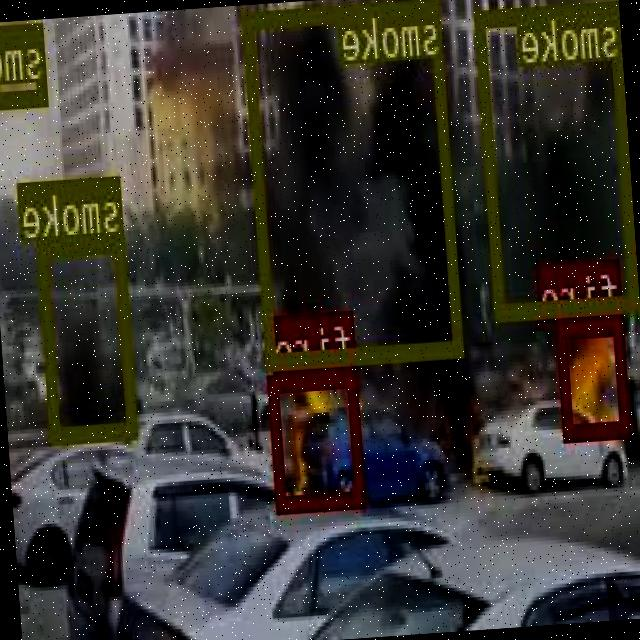fire: (270, 366, 366, 508), (558, 315, 632, 436)
smoke: (245, 0, 465, 365), (475, 0, 639, 317), (38, 230, 138, 440), (0, 22, 50, 107)
